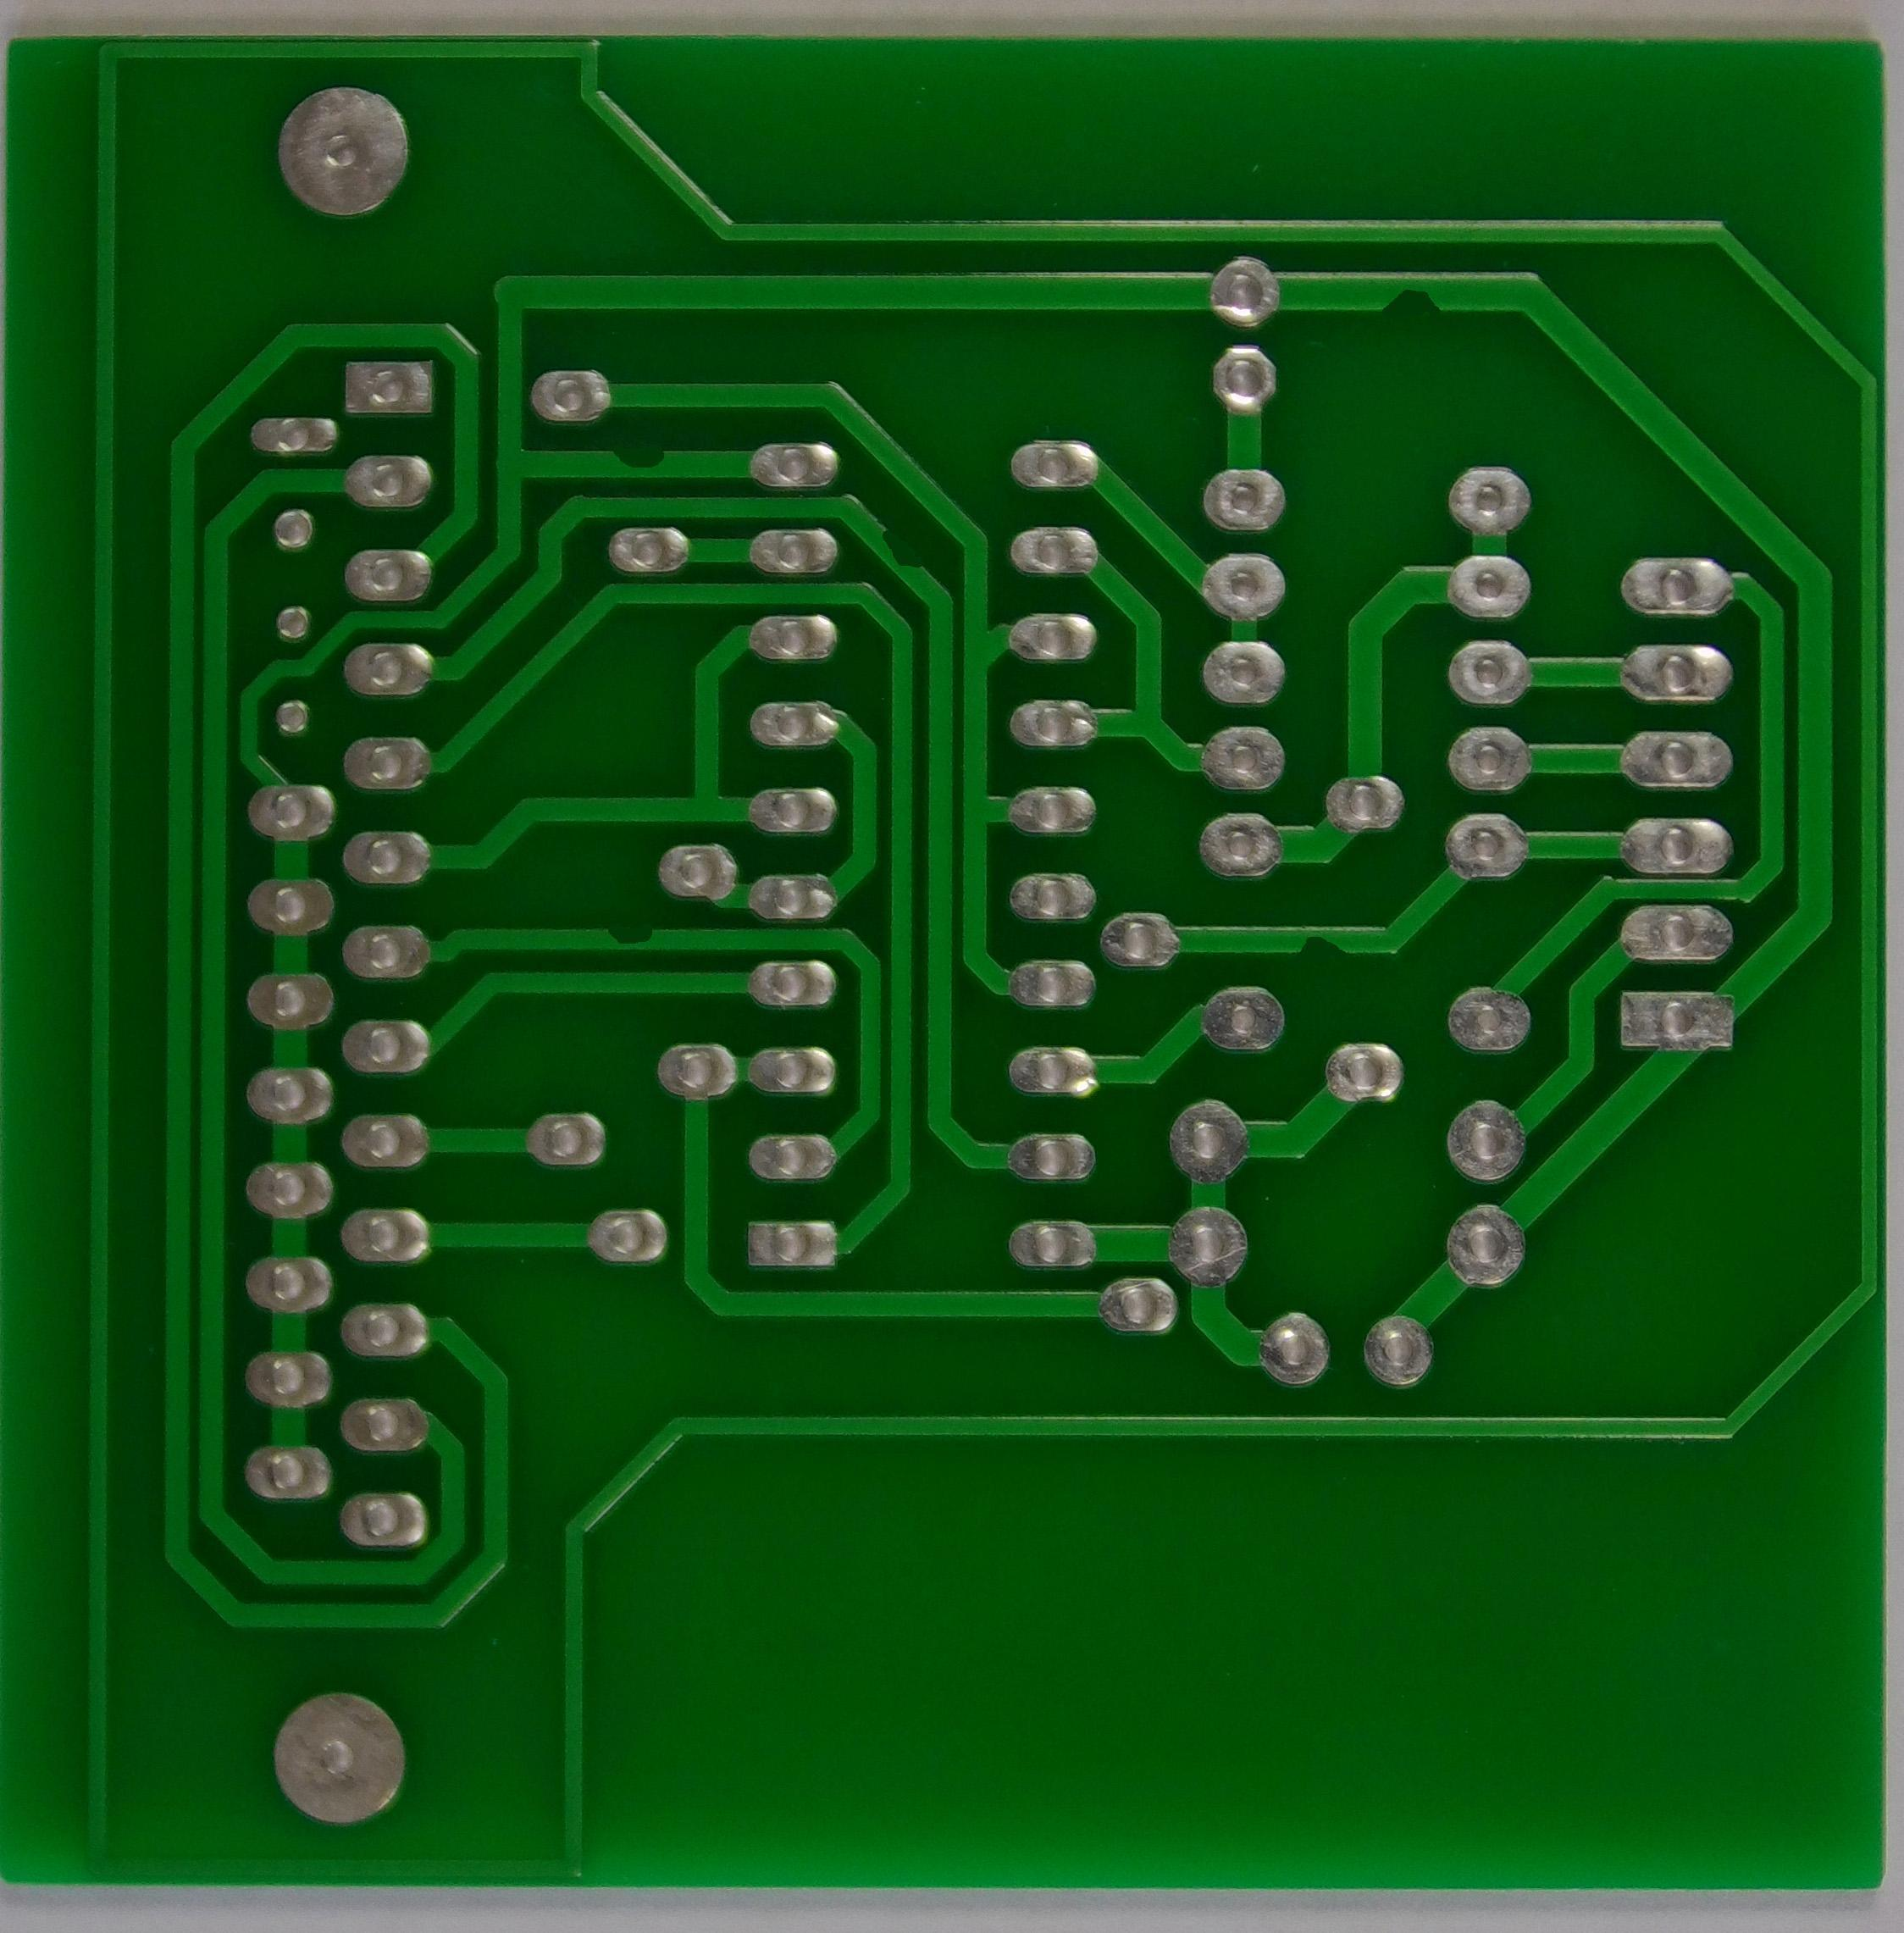mouse_bite: (867, 502, 936, 589), (1353, 272, 1449, 329), (1292, 924, 1365, 976), (598, 436, 692, 476), (598, 910, 671, 945)
